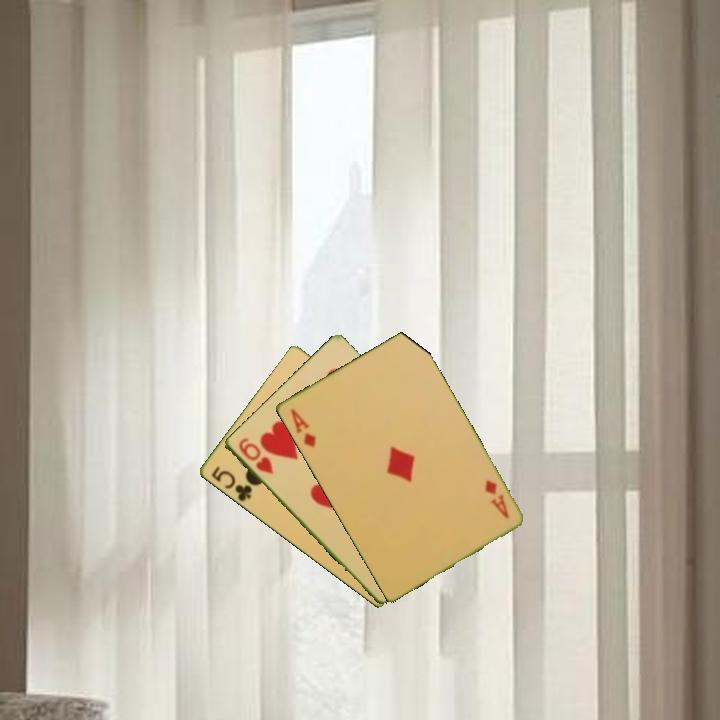5c: (207, 463, 256, 505)
6h: (234, 434, 276, 477)
Ad: (286, 405, 318, 450), (481, 476, 511, 521)
